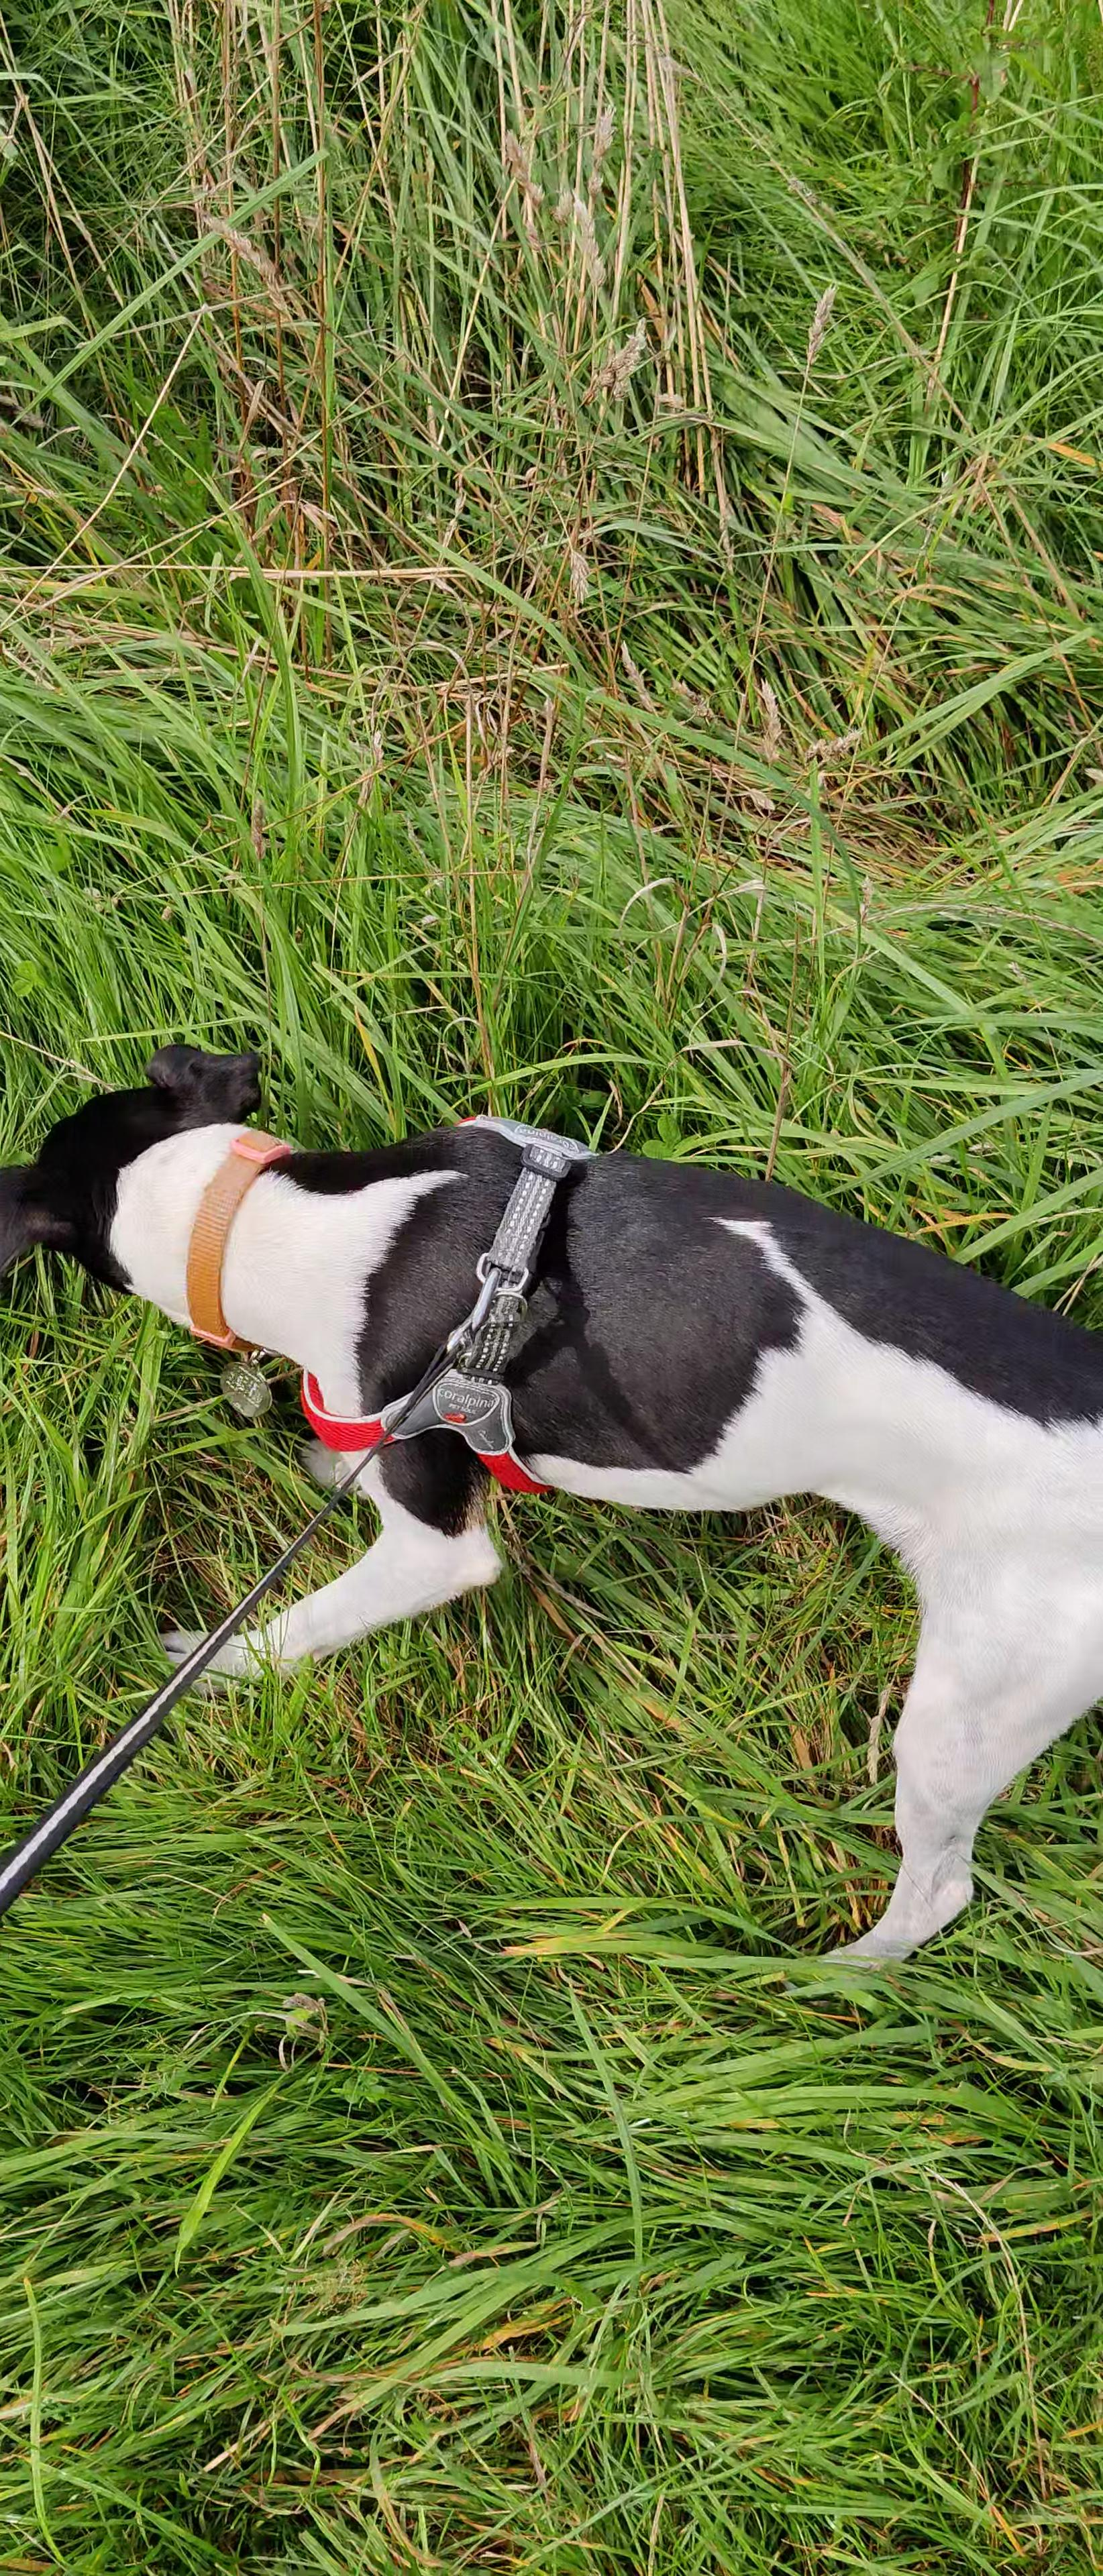Dog: (0, 1035, 1103, 1981)
